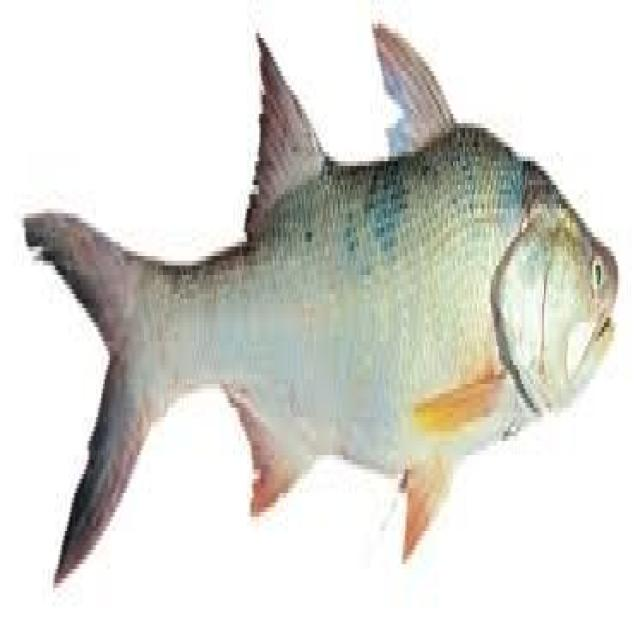Fourfinger-Threadfin: (6, 20, 634, 578)
